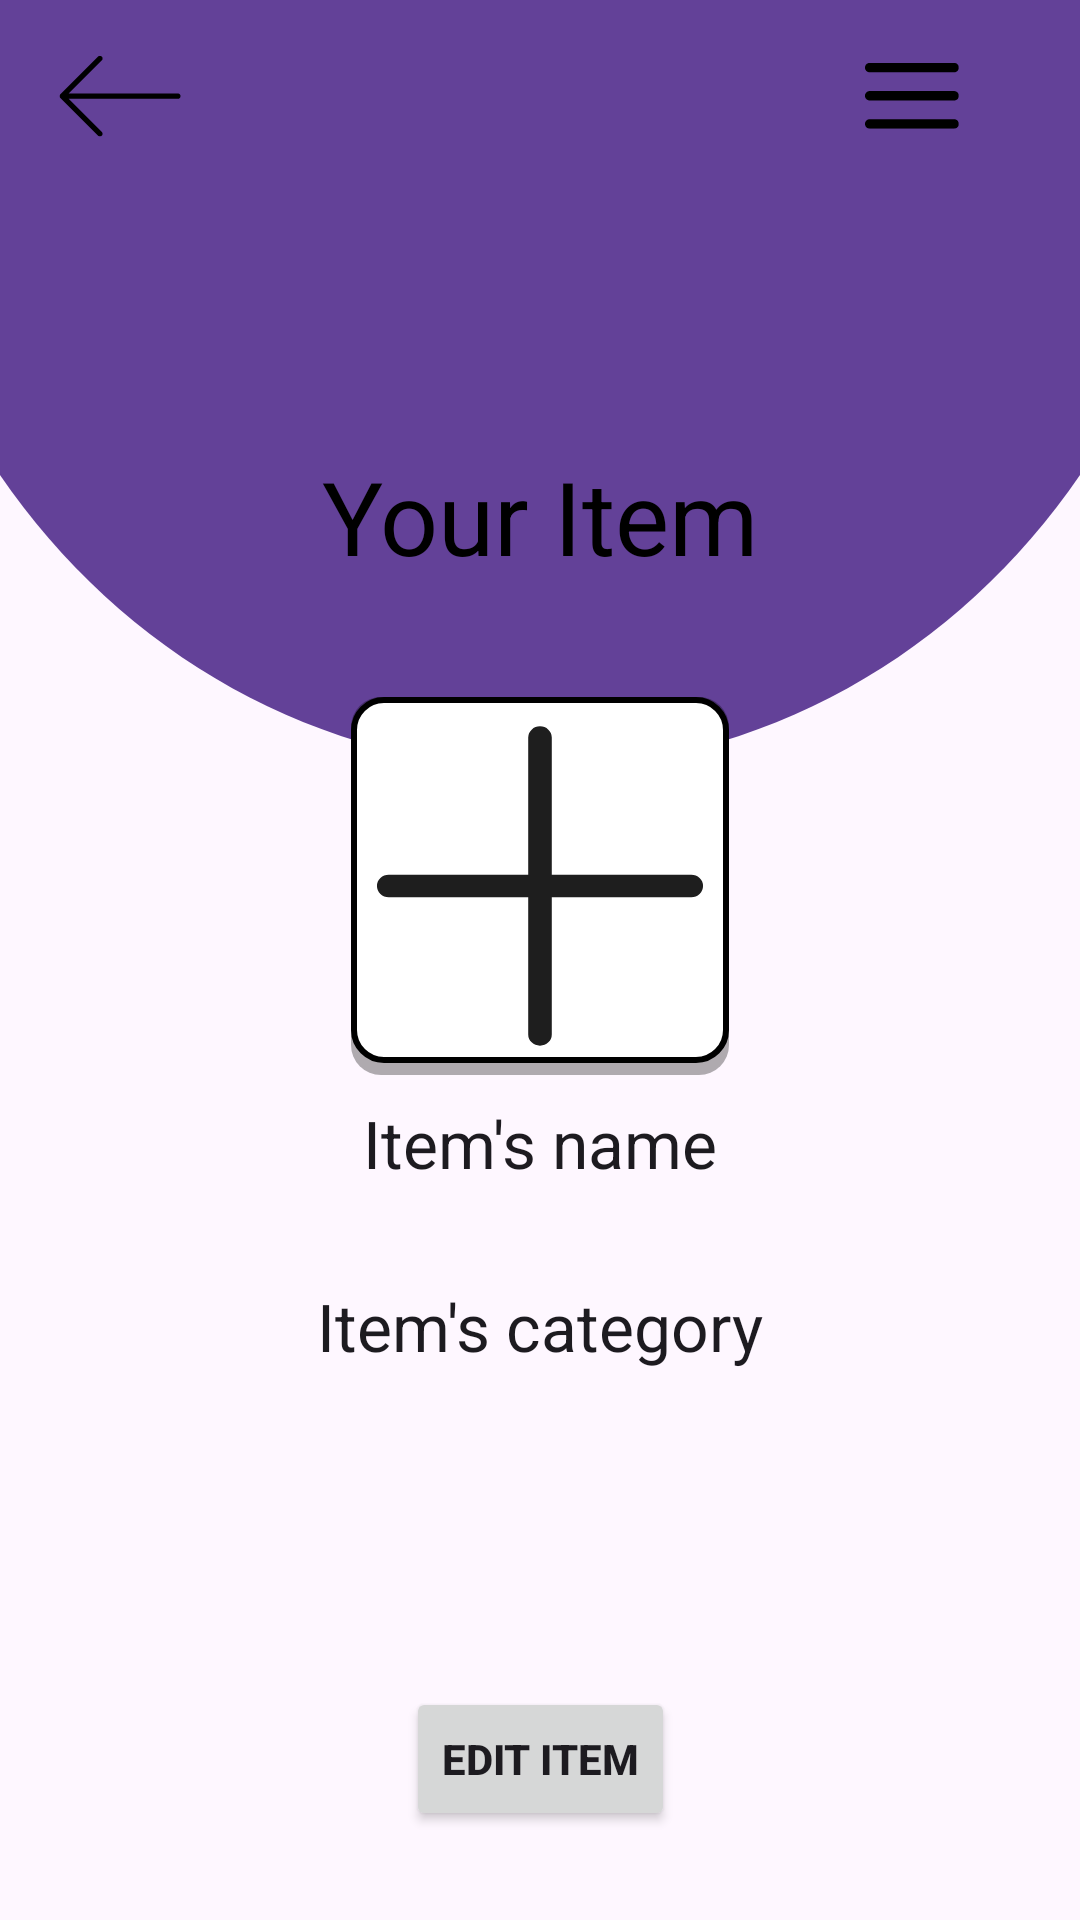

Where icons sit on this 1080×1920 app screen, as (x1, y1, x2, y2):
back: (59, 56, 181, 137)
menu: (865, 63, 959, 129)
plus: (377, 726, 703, 1046)
